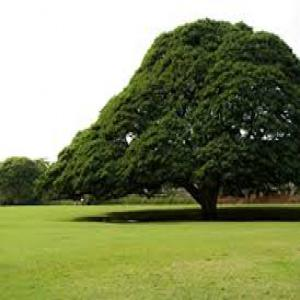Tree: (42, 18, 299, 218)
